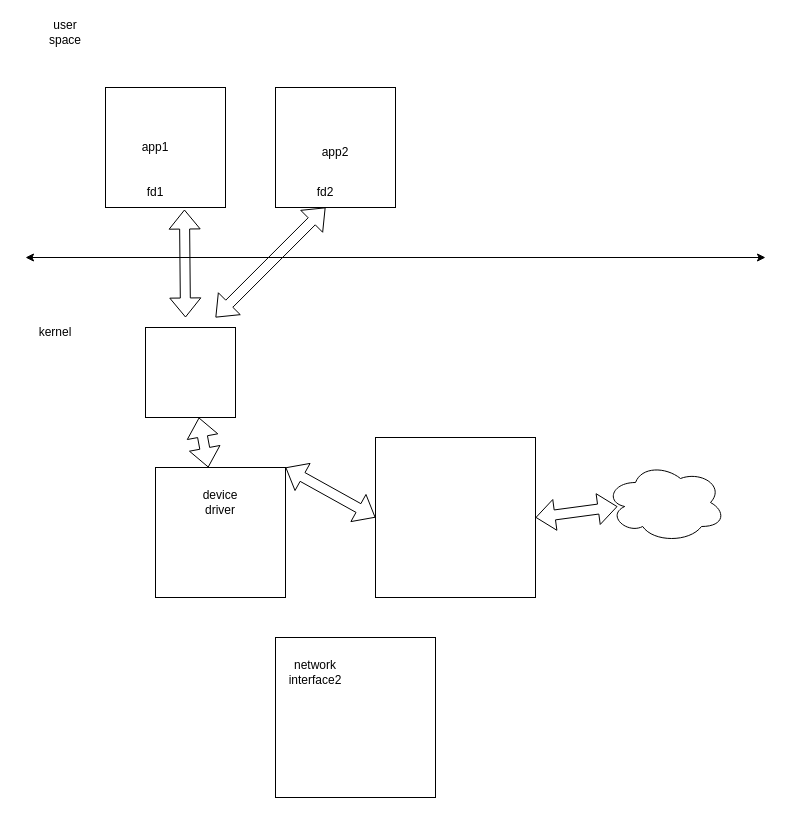
Image size: 792x815. Some labels were removed from this diagram. Each missing label, with the centre of its shape:
network interface1: the point at 455,517
protocols + queues: the point at 190,372
